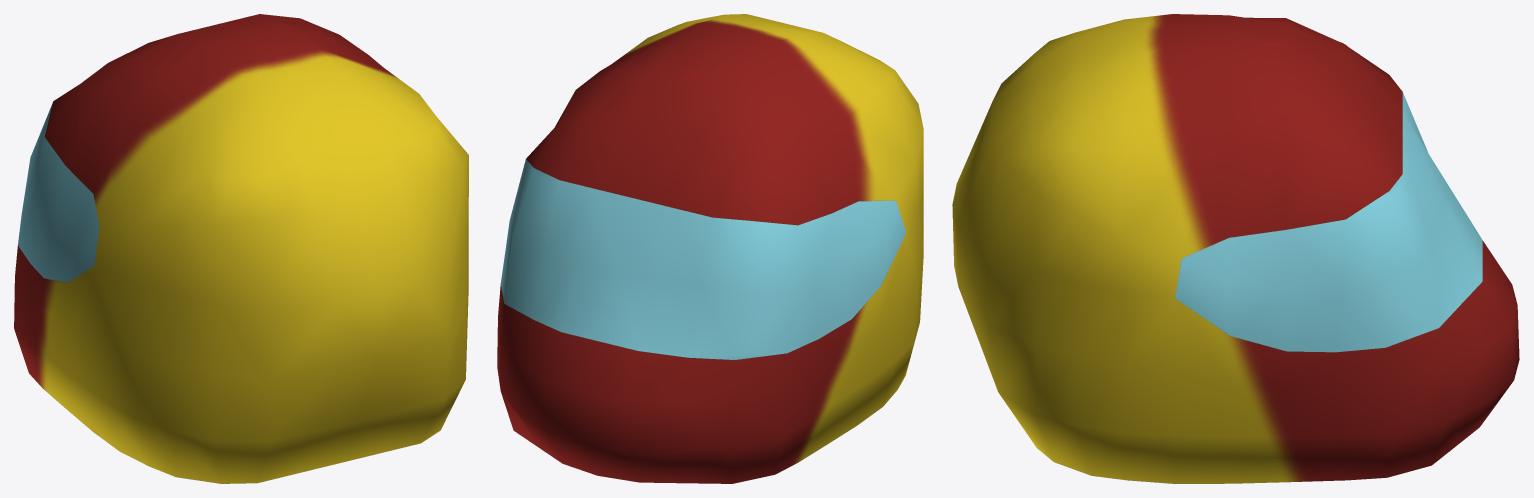
Rendered from oga_racing.glb.
3 views of the same model, side by side, from view 1: azimuth 30°, elevation 25°; view 2: azimuth 150°, elevation 25°; view 3: azimuth 270°, elevation 25° (orthographic). The views are drawn at different scales.
Visible parts, largest first — view 1: Cube; view 2: Cube; view 3: Cube.
Part boxes in pixels (x1,y1,x2,y2): Cube: (14, 14, 468, 483); Cube: (497, 14, 923, 483); Cube: (952, 14, 1519, 483).
Bounding box in the file's own units: 7.06 × 6.87 × 9.43.
1 material, 1 textured.
